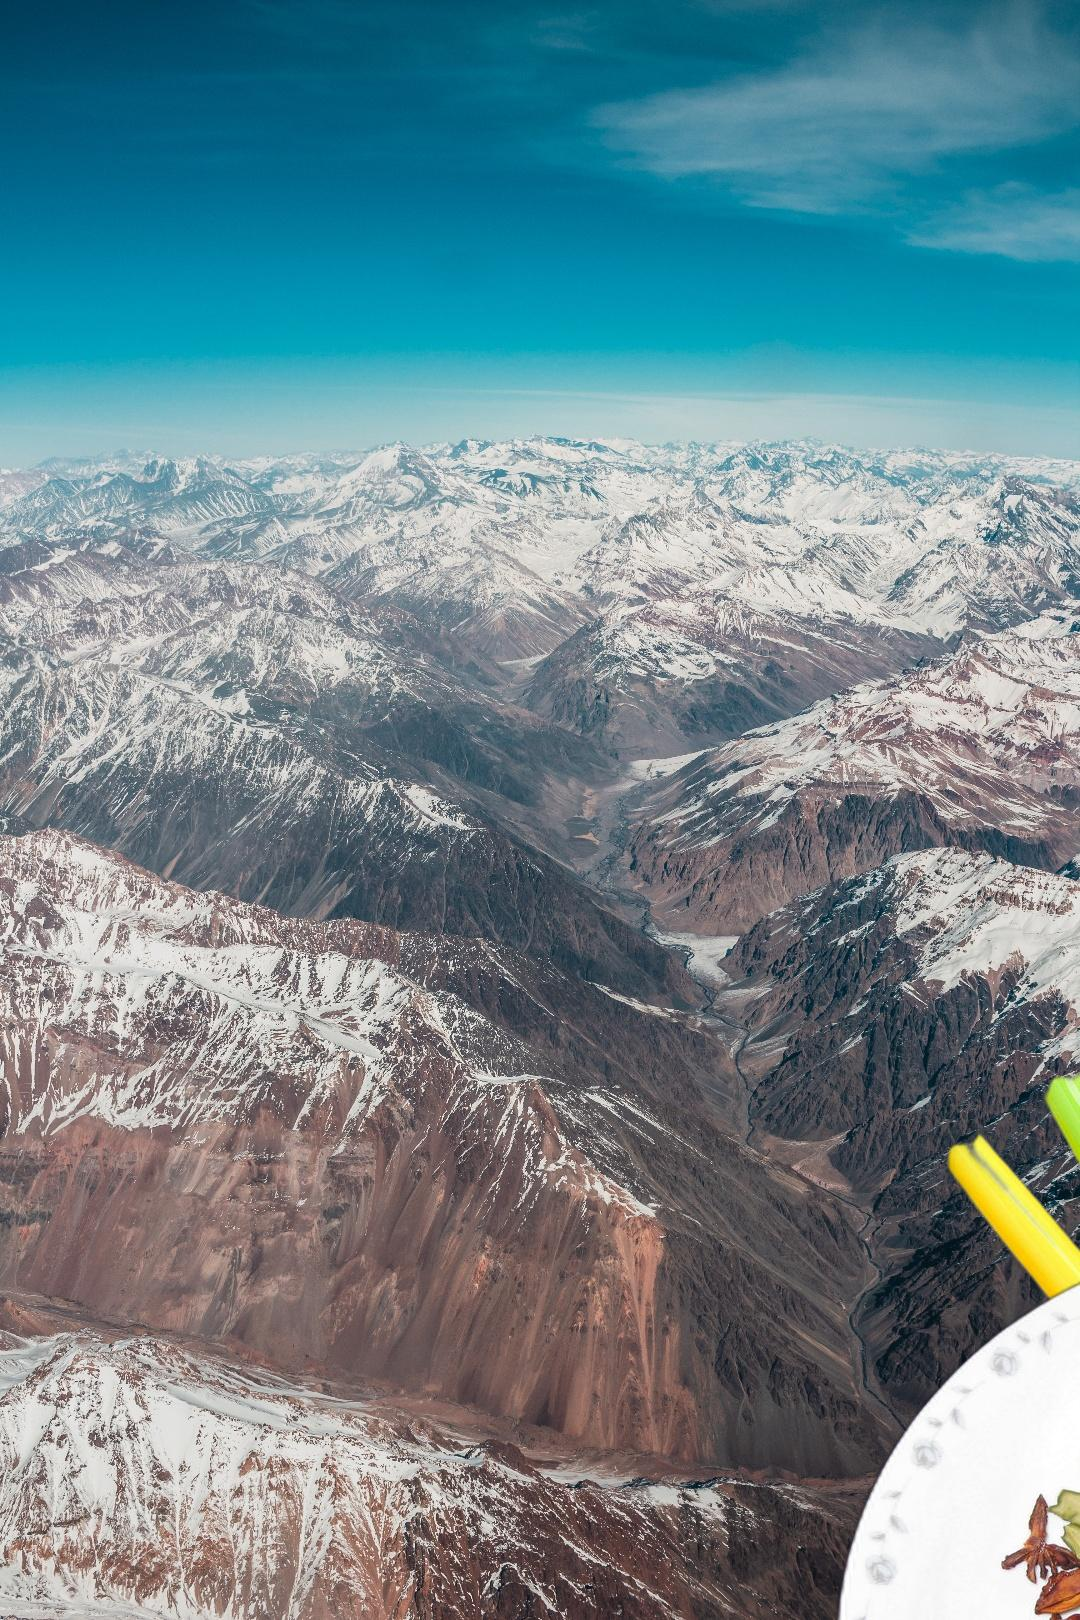biological: (824, 1231, 1080, 1620)
penholder: (757, 814, 1080, 1614)
